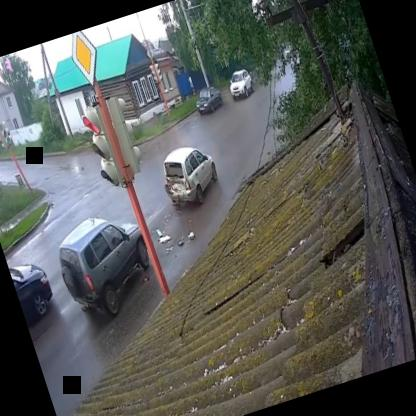accident: (152, 132, 232, 224)
